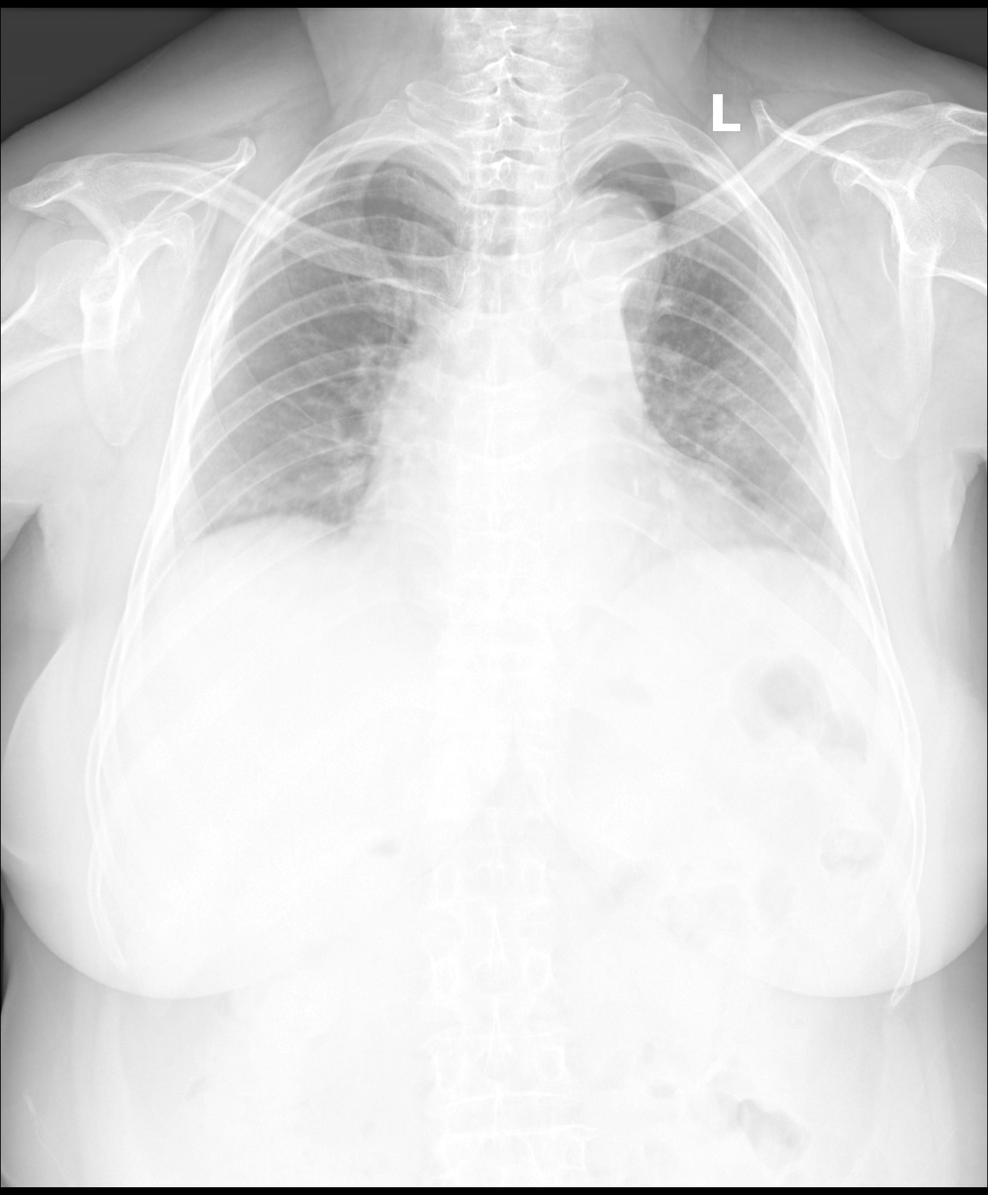Aortic enlargement: (536, 180, 665, 342)
Cardiomegaly: (345, 466, 750, 590)
